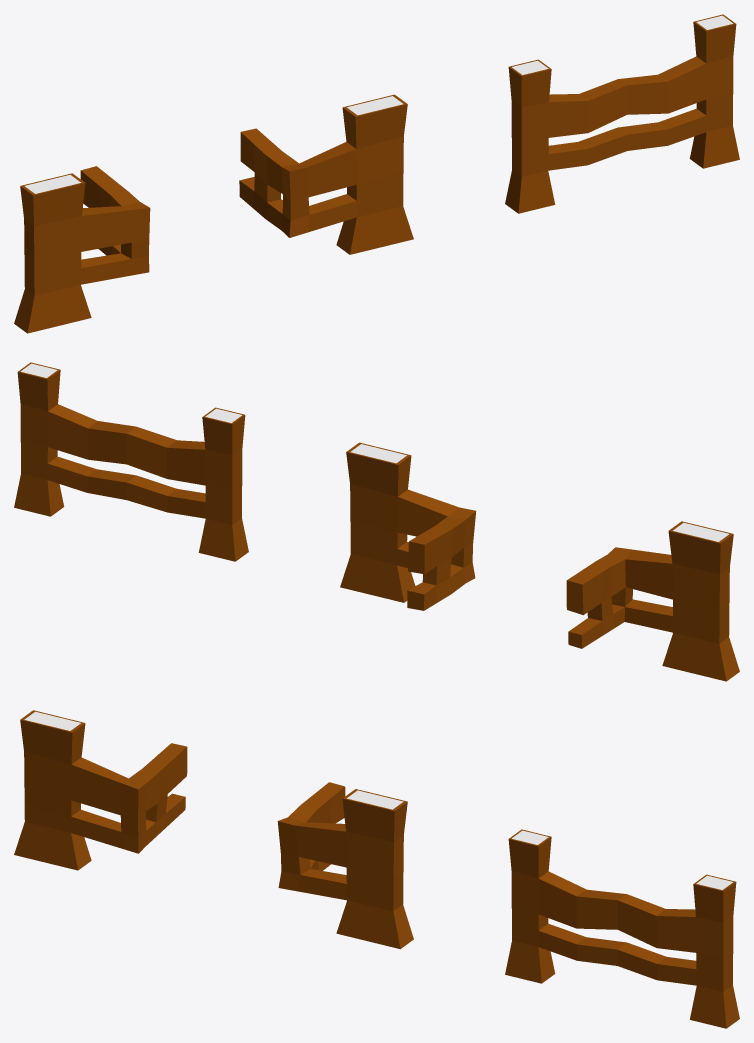
File: CercaV2406.fbx
3 views of the same model, one above another, from view 1: azimuth 30°, elevation 25°; view 2: azimuth 150°, elevation 25°; view 3: azimuth 330°, elevation 25° (orthographic).
Parts seen in each view (by area): view 1: Portao, Cerca; view 2: Portao, Cerca; view 3: Portao, Cerca.
Part boxes in pixels (x1,y1,x2,y2): Portao: (14,94,413,333); Cerca: (505,14,739,213); Portao: (340,442,739,681); Cerca: (14,362,248,561); Portao: (14,710,413,949); Cerca: (505,829,739,1028).
Size of the model in its own units: 749 by 137 by 94.98.
